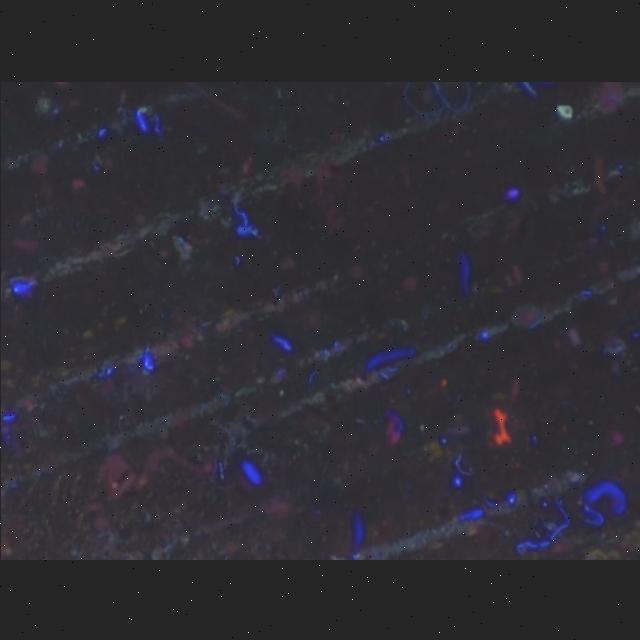microbeads: (556, 100, 574, 120)
